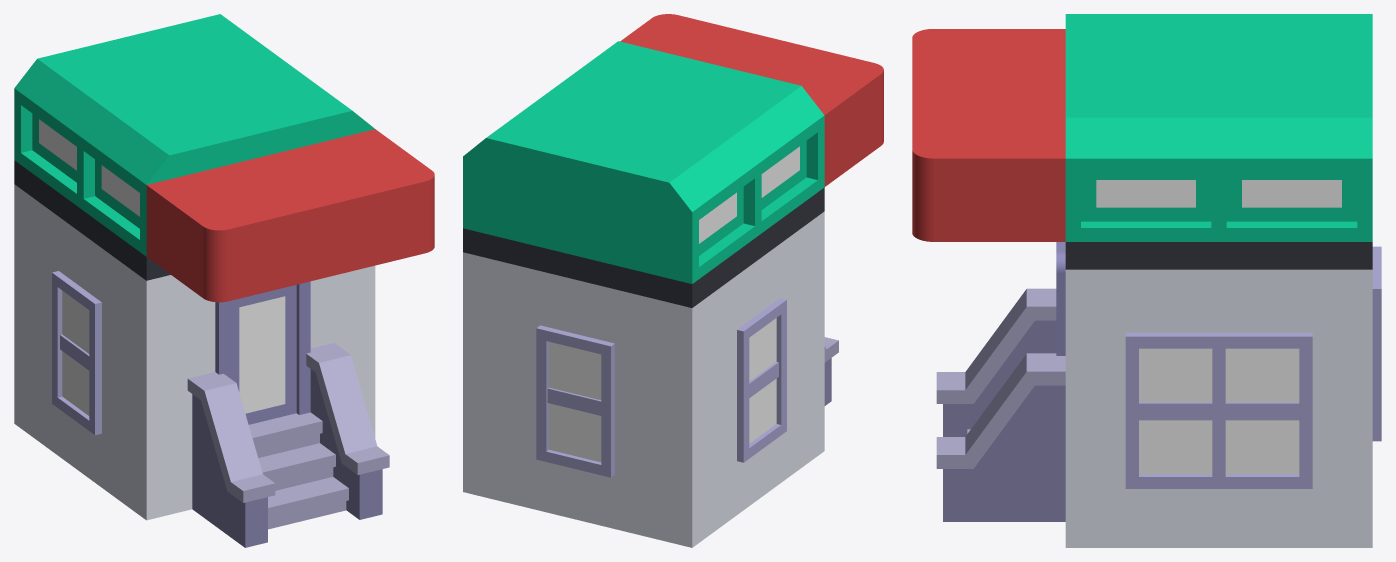
The picture shows the model from 3 angles, left to right: view 1: azimuth 30°, elevation 25°; view 2: azimuth 150°, elevation 25°; view 3: azimuth 270°, elevation 25°; orthographic projection. The views are drawn at different scales.
Parts seen in each view (by area): view 1: mergedBlocks; view 2: mergedBlocks; view 3: mergedBlocks.
Boxes of the visible parts, left/top/right/bottom form: mergedBlocks: left=14, top=14, right=434, bottom=547; mergedBlocks: left=463, top=14, right=883, bottom=547; mergedBlocks: left=912, top=14, right=1381, bottom=547.
Size of the model in its own units: 10.6 by 15 by 15.3.
